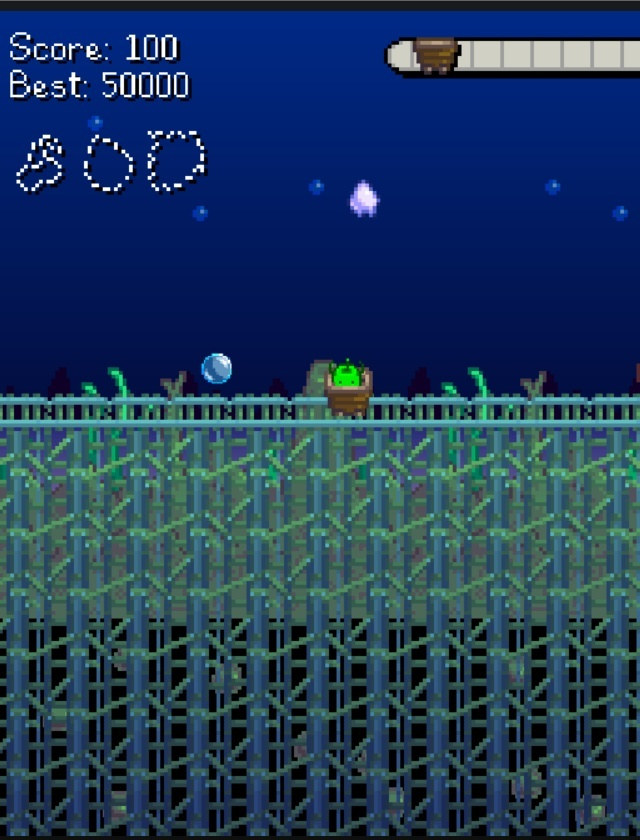bubble: (202, 354, 231, 384)
minecart: (325, 369, 371, 415)
tracks: (0, 386, 311, 435), (390, 389, 640, 438)
